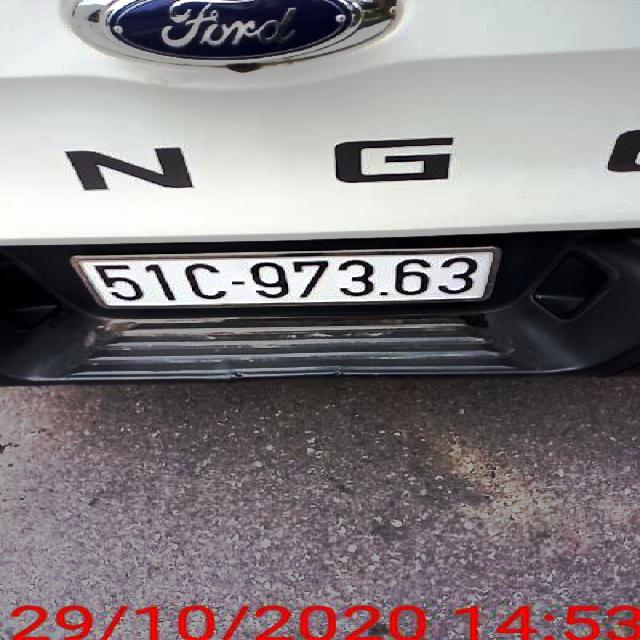license_plate: (76, 251, 490, 308)
